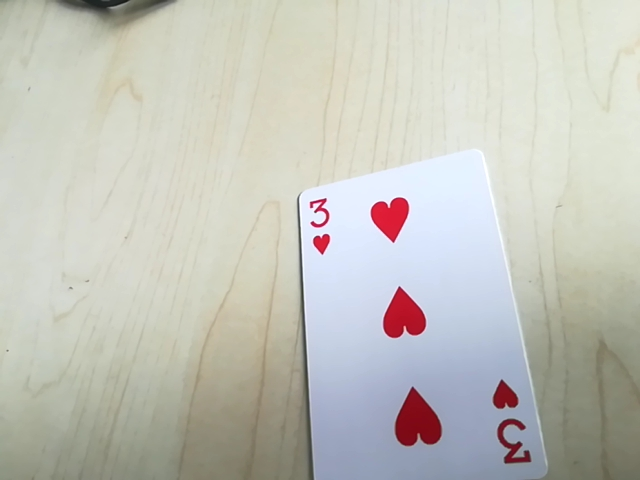hx 3: (495, 396, 535, 471), (298, 190, 335, 255)
